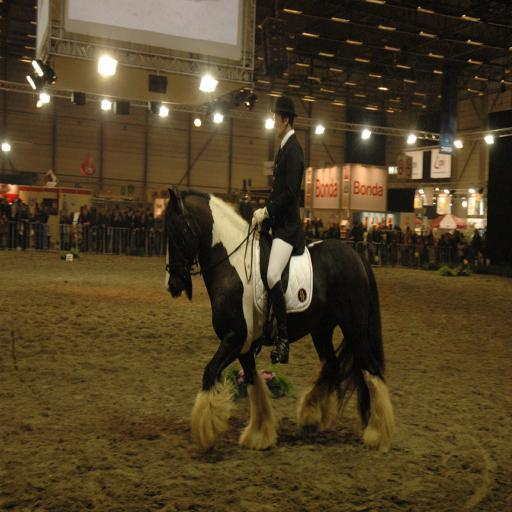horse: (164, 182, 397, 455)
